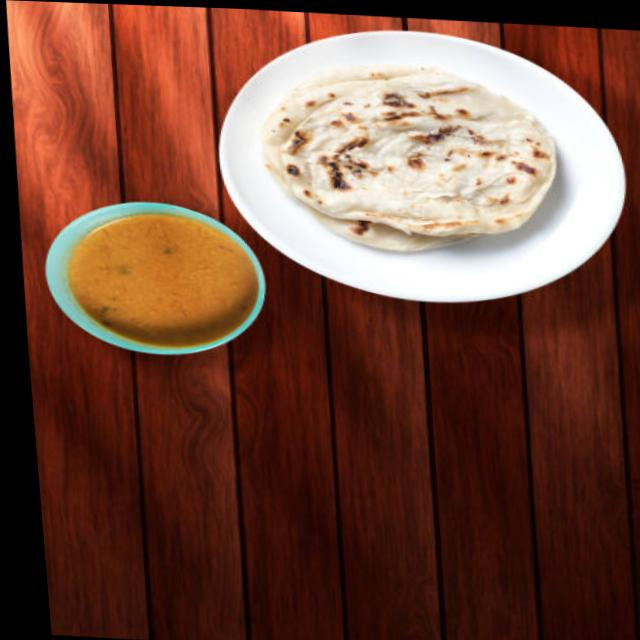CURRY: (46, 201, 264, 352)
PAROTTA: (264, 65, 553, 249)
